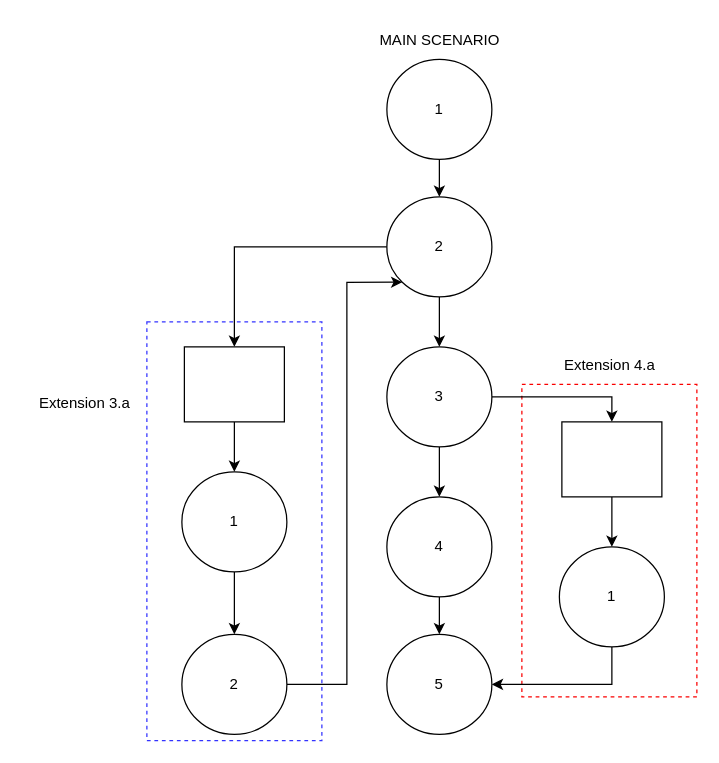
Some shapes in this 719 by 763 pixel diagram are drawn without their labels. Here are the shapes that lost their labels. From the top down, the centre of each, then its label:
At (233,384): "3.a".
At (611,459): "4.a".
